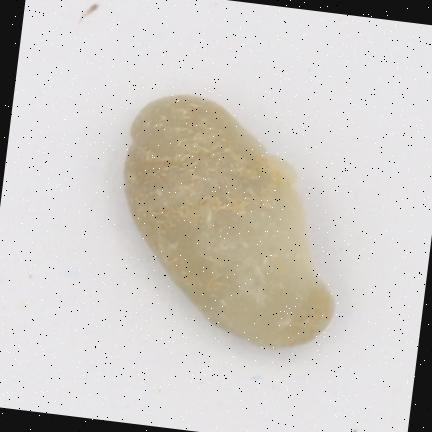cut: (124, 95, 333, 346)
